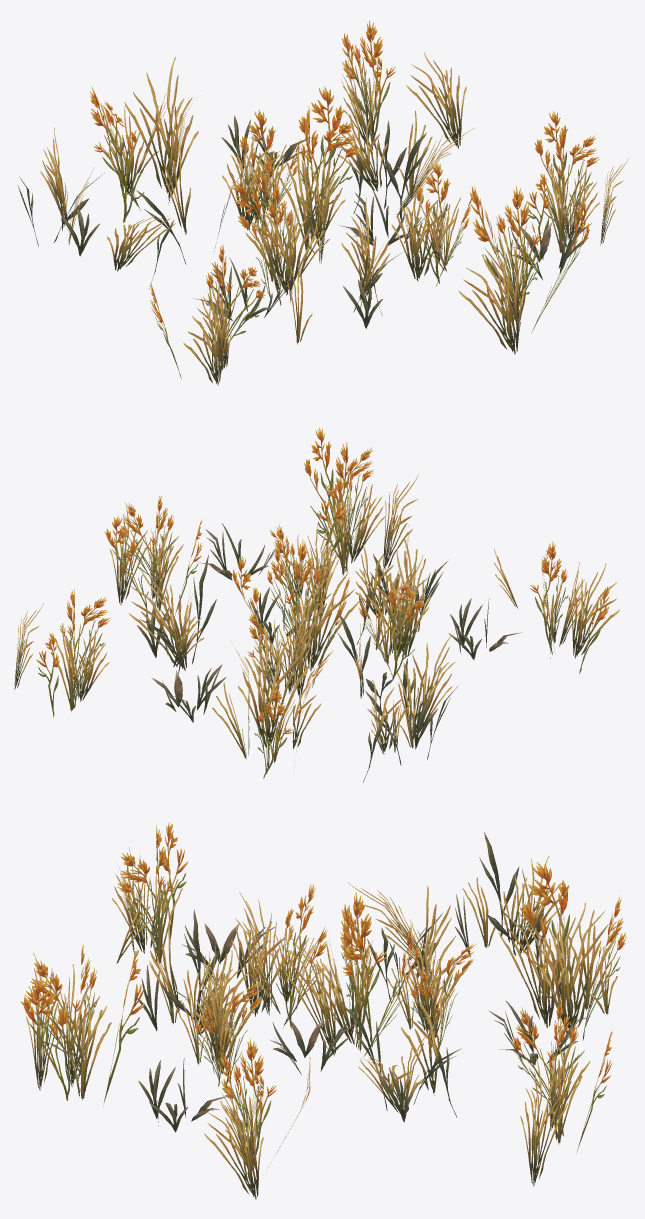
The picture shows the model from 3 angles, top to bottom: view 1: azimuth 30°, elevation 25°; view 2: azimuth 150°, elevation 25°; view 3: azimuth 270°, elevation 25°; orthographic projection. The views are drawn at different scales.
Size of the model in its own units: 10.19 by 3.45 by 10.
1 material, 1 textured.
